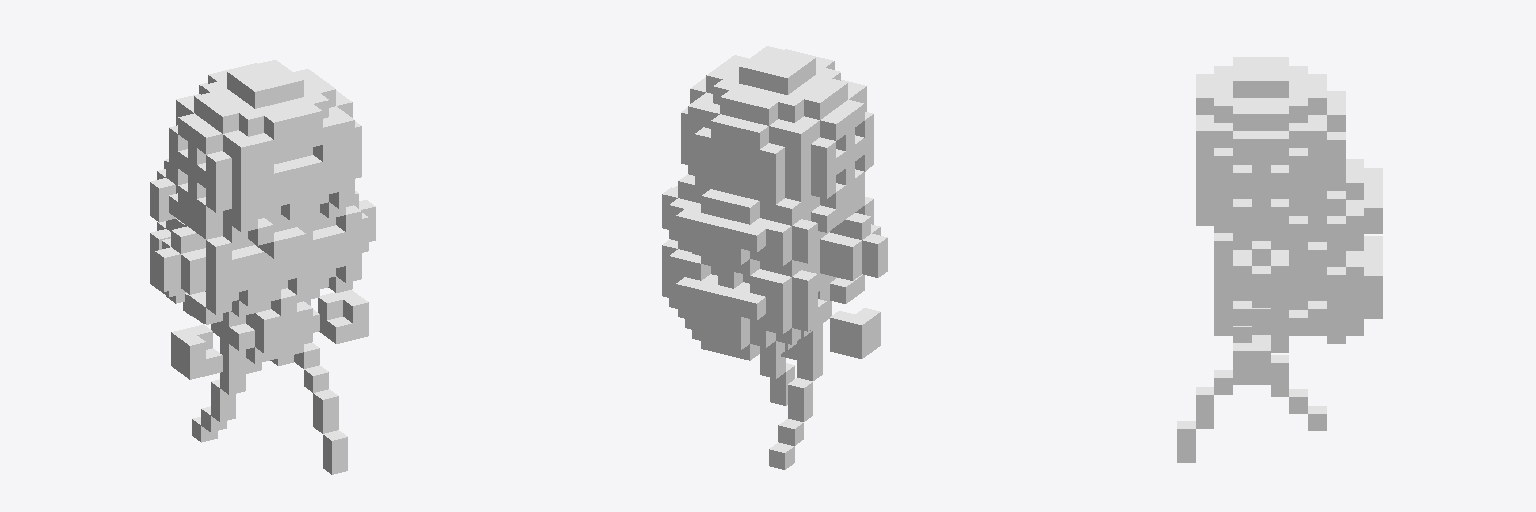
File: player_walk-00.obj
The picture shows the model from 3 angles: view 1: azimuth 30°, elevation 25°; view 2: azimuth 150°, elevation 25°; view 3: azimuth 270°, elevation 25°; orthographic projection.
Bounding box in the file's own units: 13 × 22 × 11.